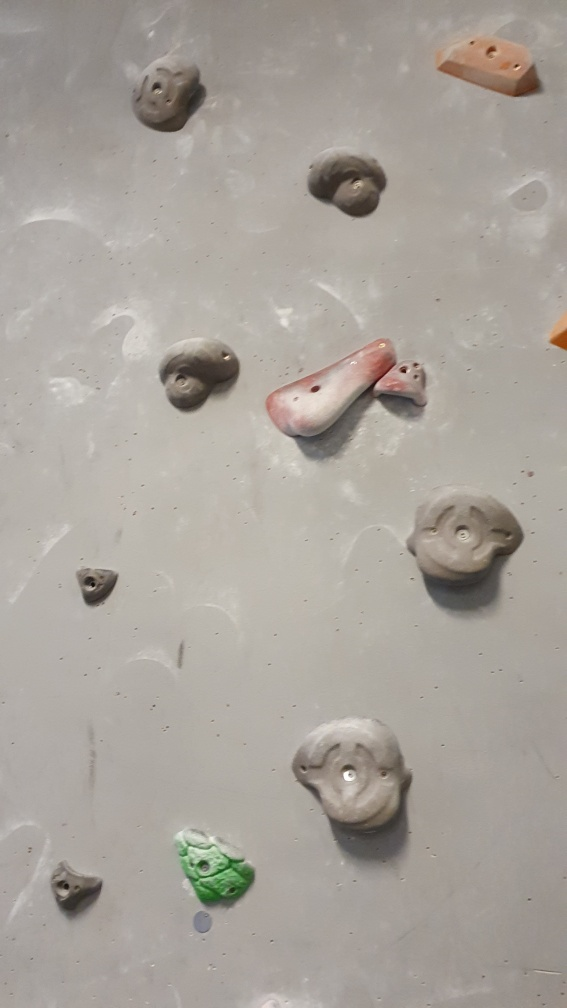Hand Start: (191, 909, 217, 939)
Jug: (294, 719, 414, 834), (402, 482, 527, 590), (157, 336, 241, 410), (306, 145, 387, 216), (132, 55, 201, 133), (373, 352, 434, 408)
Pinch: (433, 35, 540, 101)
